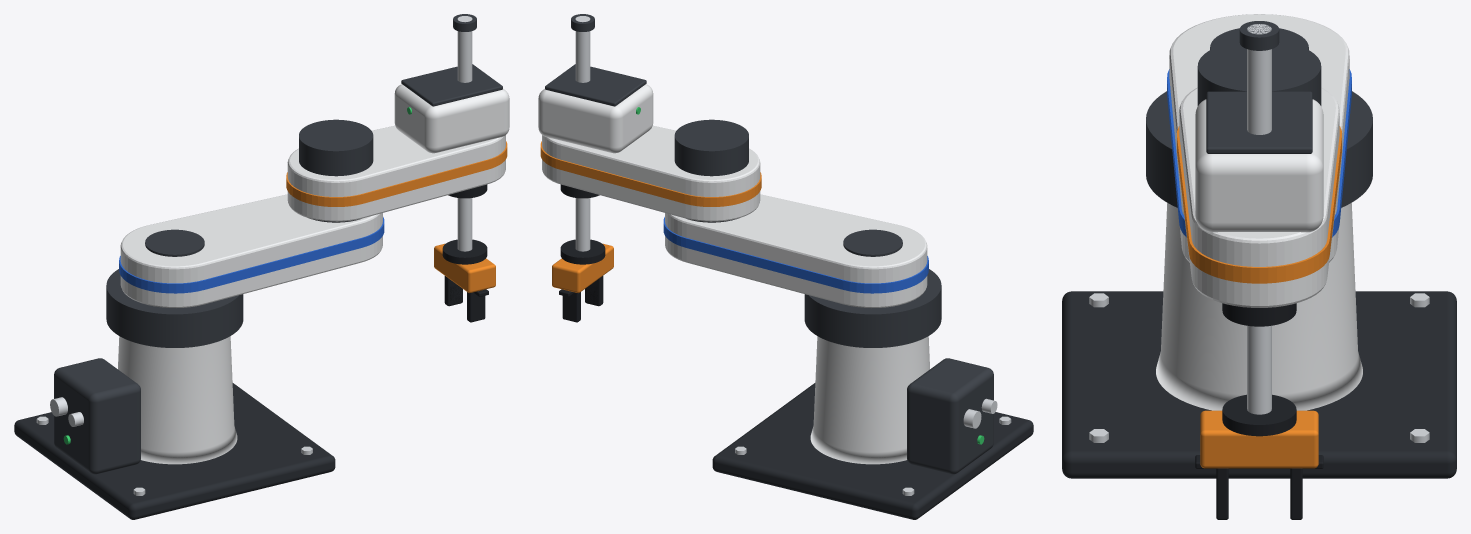
Rendered from scara_sceliph_flat.glb.
3 views of the same model, side by side, from view 1: azimuth 30°, elevation 25°; view 2: azimuth 150°, elevation 25°; view 3: azimuth 270°, elevation 25° (orthographic). The views are drawn at different scales.
Parts seen in each view (by area): view 1: link1__body, base__plate, base__column, link2__body, base__connector_box, base__j1_housing, link2__head, link2__j2_cover, link1__band, link2__band, link2__head_cap, quill__shaft (+3 smaller); view 2: link1__body, base__plate, base__column, link2__body, base__connector_box, base__j1_housing, link2__head, link2__j2_cover, link1__band, link2__band, link2__head_cap, quill__shaft (+3 smaller); view 3: base__plate, base__column, link2__body, link2__head, link1__body, link2__head_cap, quill__gripper_body, base__j1_housing, link2__j2_cover, quill__shaft, link2__band, quill__flange (+6 smaller).
Part boxes in pixels (x1,y1,x2,y2): link1__body: (120, 194, 382, 307); base__plate: (14, 383, 335, 519); base__column: (118, 336, 237, 464); link2__body: (287, 125, 505, 221); base__connector_box: (54, 358, 140, 474); base__j1_housing: (106, 269, 243, 347); link2__head: (394, 84, 509, 153); link2__j2_cover: (299, 119, 373, 176); link1__band: (119, 217, 384, 293); link2__band: (286, 141, 507, 206); link2__head_cap: (401, 64, 502, 106); quill__shaft: (457, 16, 472, 251); link1__body: (665, 194, 927, 307); base__plate: (712, 383, 1033, 519); base__column: (810, 336, 929, 464); link2__body: (542, 125, 760, 221); base__connector_box: (907, 358, 993, 474); base__j1_housing: (804, 269, 941, 347); link2__head: (538, 84, 653, 153); link2__j2_cover: (674, 119, 748, 176); link1__band: (663, 217, 928, 293); link2__band: (540, 141, 761, 206); link2__head_cap: (545, 64, 646, 106); quill__shaft: (575, 16, 590, 251); base__plate: (1062, 291, 1456, 478); base__column: (1156, 203, 1362, 410); link2__body: (1179, 87, 1339, 307); link2__head: (1195, 99, 1323, 232); link1__body: (1169, 14, 1349, 262); link2__head_cap: (1206, 91, 1312, 153); quill__gripper_body: (1200, 410, 1318, 468); base__j1_housing: (1146, 91, 1372, 207); link2__j2_cover: (1197, 41, 1321, 105); quill__shaft: (1247, 24, 1271, 414); link2__band: (1177, 126, 1341, 283); quill__flange: (1222, 394, 1296, 436).
Size of the model in its own units: 0.681 by 0.54 by 0.32.
